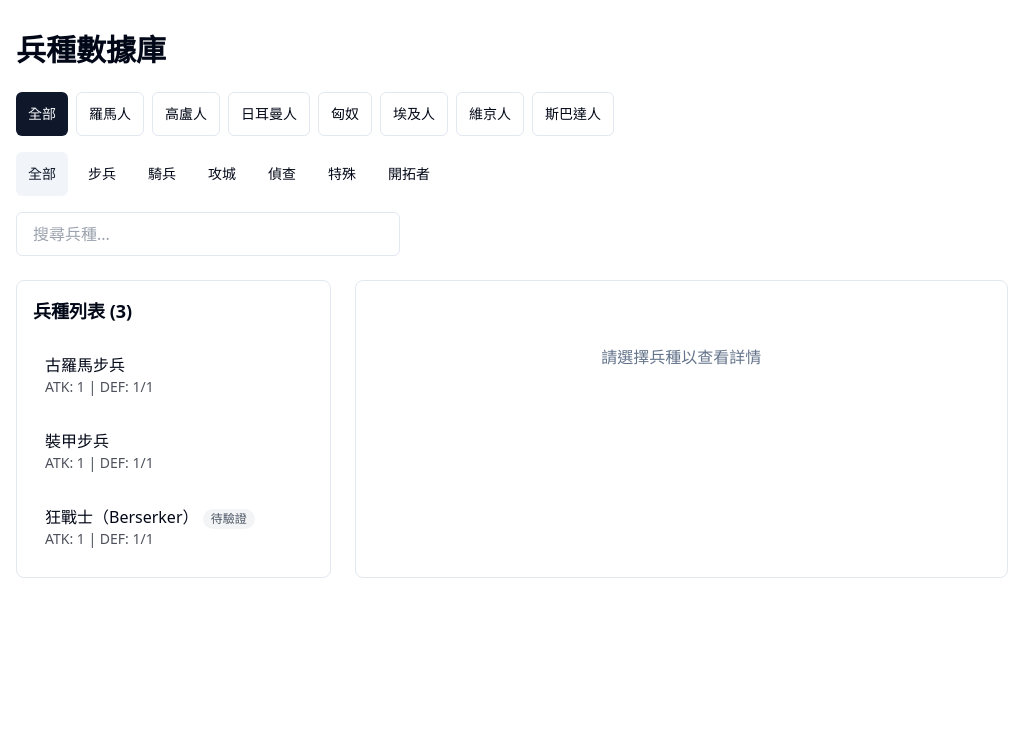
Test case: TroopsPage: one 「待驗證」 chip for unit costs / upkeep / training time (P0-17) › tap: the units copy opens below the heading and fills the whole section
Click the text "裝甲步兵": [77, 441] box [45,430,109,452]
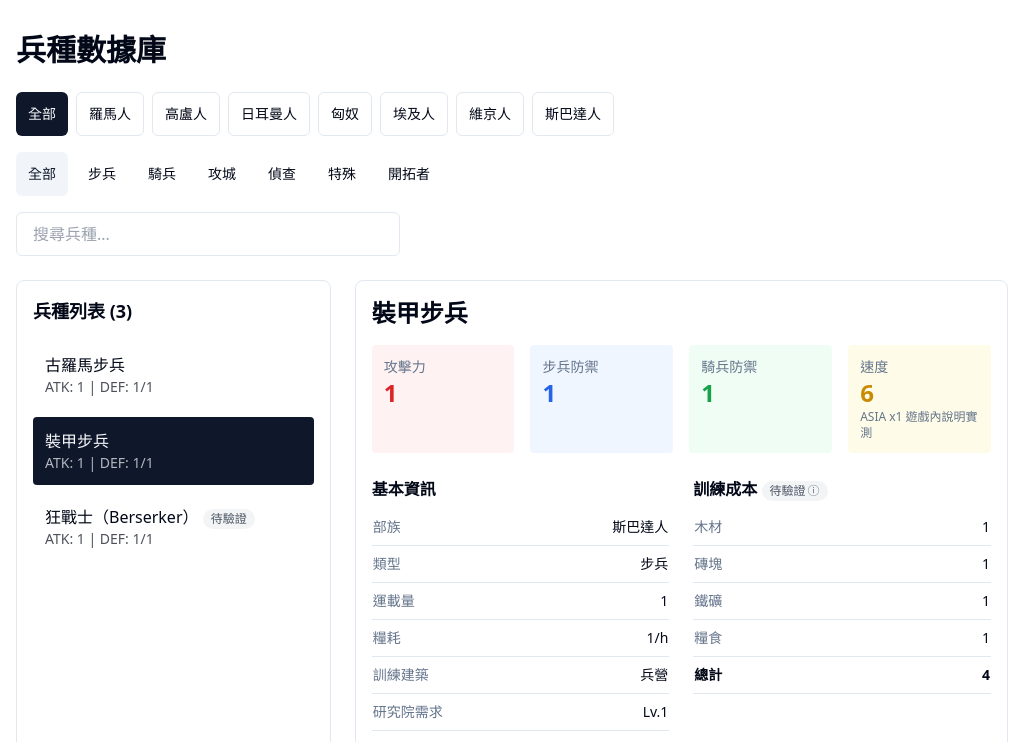
Click the button with test id "pending-verify-chip": [794, 491] box [762,481,828,501]
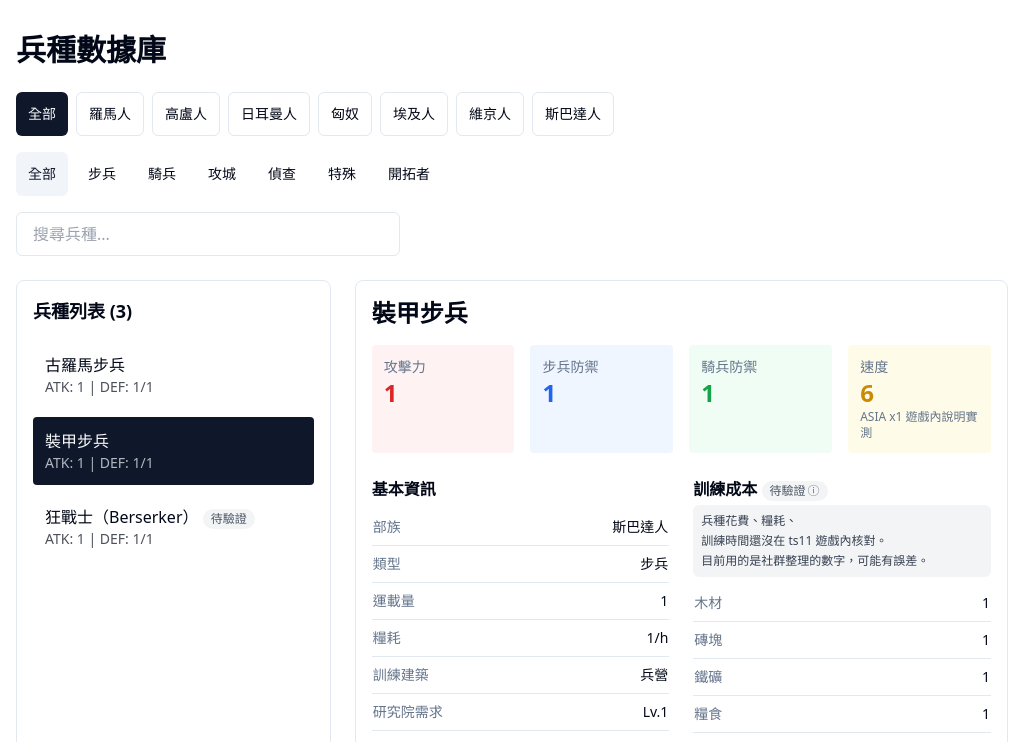
Expected: the element with test id "pending-note-what" reads "兵種花費、 糧耗、 訓練時間還沒在 ts11 遊戲內核對。", [701,512,887,549]
Expected: the element with test id "pending-note-source" reads "目前用的是社群整理的數字， 可能有誤差。", [701,552,929,569]
